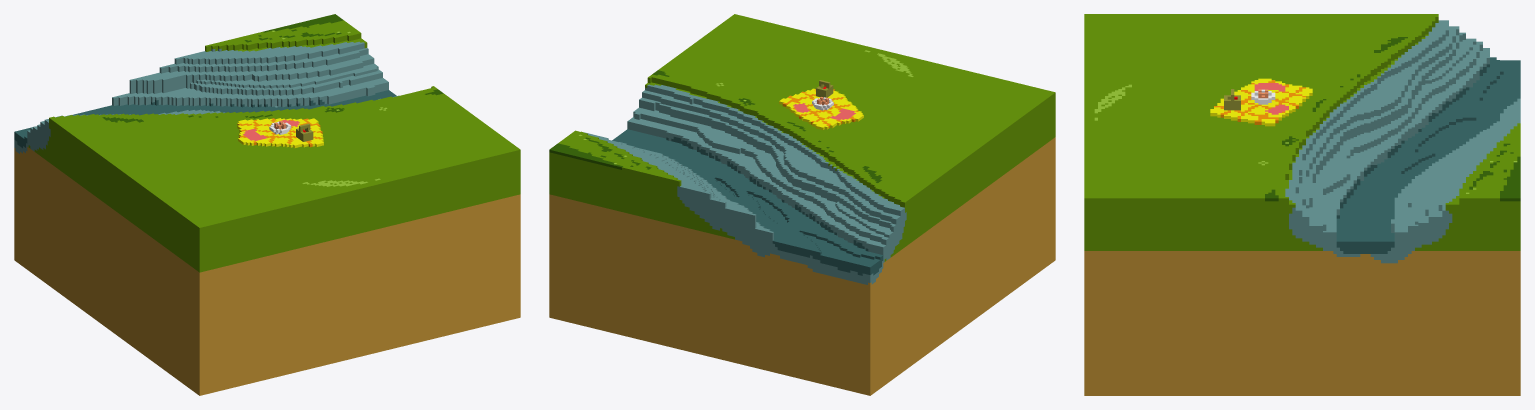
The picture shows the model from 3 angles, left to right: view 1: azimuth 30°, elevation 25°; view 2: azimuth 150°, elevation 25°; view 3: azimuth 270°, elevation 25°; orthographic projection. The views are drawn at different scales.
Visible parts, largest first — view 1: 2I; view 2: 2I; view 3: 2I.
Boxes of the visible parts, x1=… form: 2I: x1=14, y1=14, x2=520, y2=395; 2I: x1=549, y1=14, x2=1055, y2=395; 2I: x1=1084, y1=14, x2=1520, y2=395.
Bounding box in the file's own units: 12.8 × 7 × 12.8.
1 material, 1 textured.
